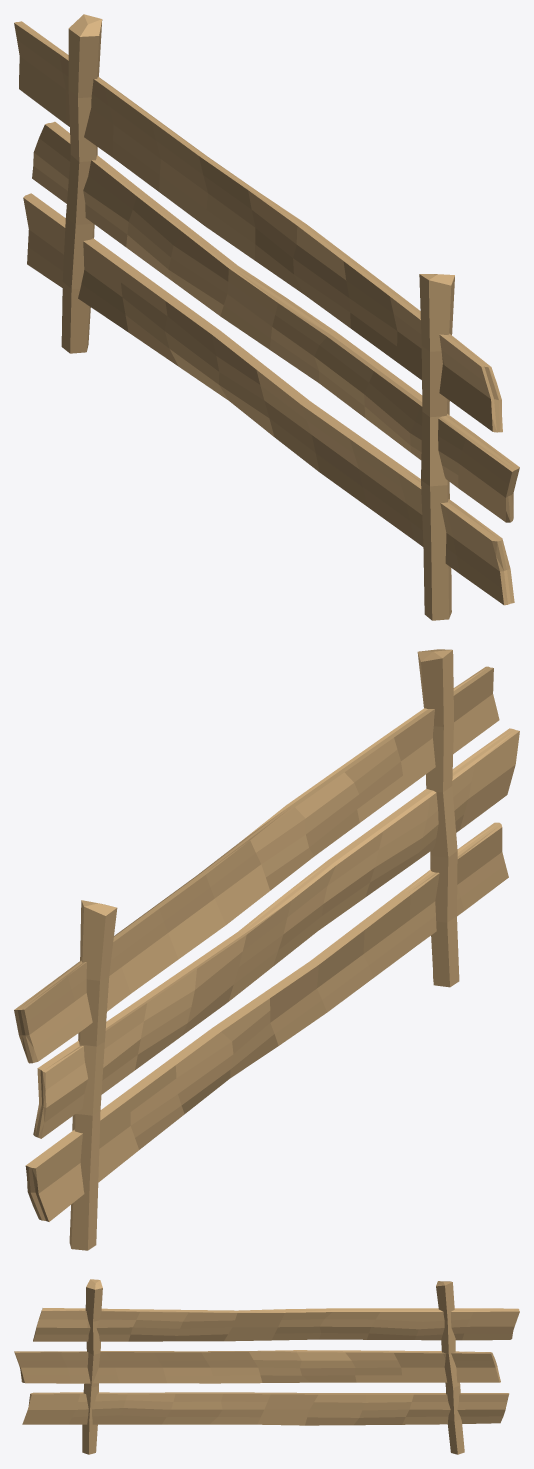
The model's file is fence.glb.
3 renders of one model, top to bottom at view 1: azimuth 30°, elevation 25°; view 2: azimuth 150°, elevation 25°; view 3: azimuth 270°, elevation 25°, orthographic. The views are drawn at different scales.
Parts seen in each view (by area): view 1: Latte, Latte_2, Latte_1, Cylinder_2, Cylinder; view 2: Latte, Latte_1, Latte_2, Cylinder_2, Cylinder; view 3: Latte_1, Latte_2, Latte, Cylinder, Cylinder_2.
Part boxes in pixels (box(x1,y1,x2,y2)): Latte: box(14, 21, 502, 432); Latte_2: box(23, 193, 514, 605); Latte_1: box(32, 121, 519, 522); Cylinder_2: box(419, 274, 454, 620); Cylinder: box(61, 14, 102, 353); Latte: box(14, 666, 499, 1063); Latte_1: box(33, 728, 519, 1138); Latte_2: box(25, 822, 508, 1221); Cylinder_2: box(417, 649, 459, 987); Cylinder: box(69, 900, 117, 1250); Latte_1: box(14, 1350, 500, 1383); Latte_2: box(22, 1392, 509, 1425); Latte: box(33, 1308, 519, 1341); Cylinder: box(436, 1281, 464, 1454); Cylinder_2: box(82, 1279, 102, 1454).
Size of the model in its own units: 7.91 by 69.67 by 187.
